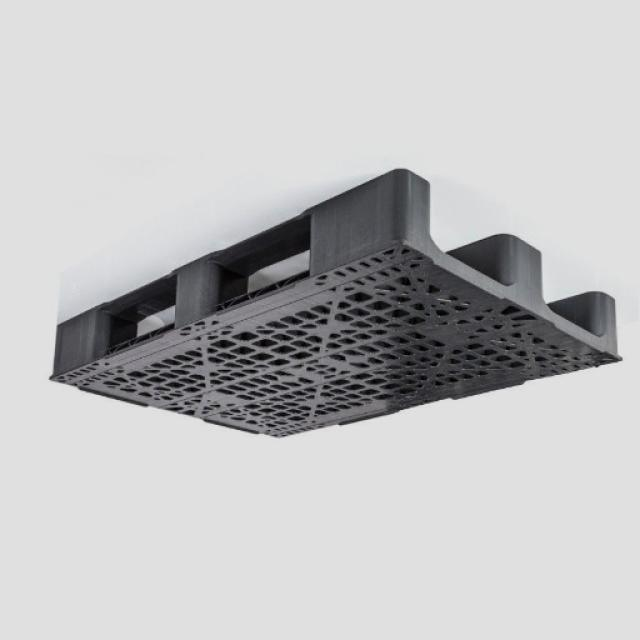non-igps: (41, 159, 630, 445)
